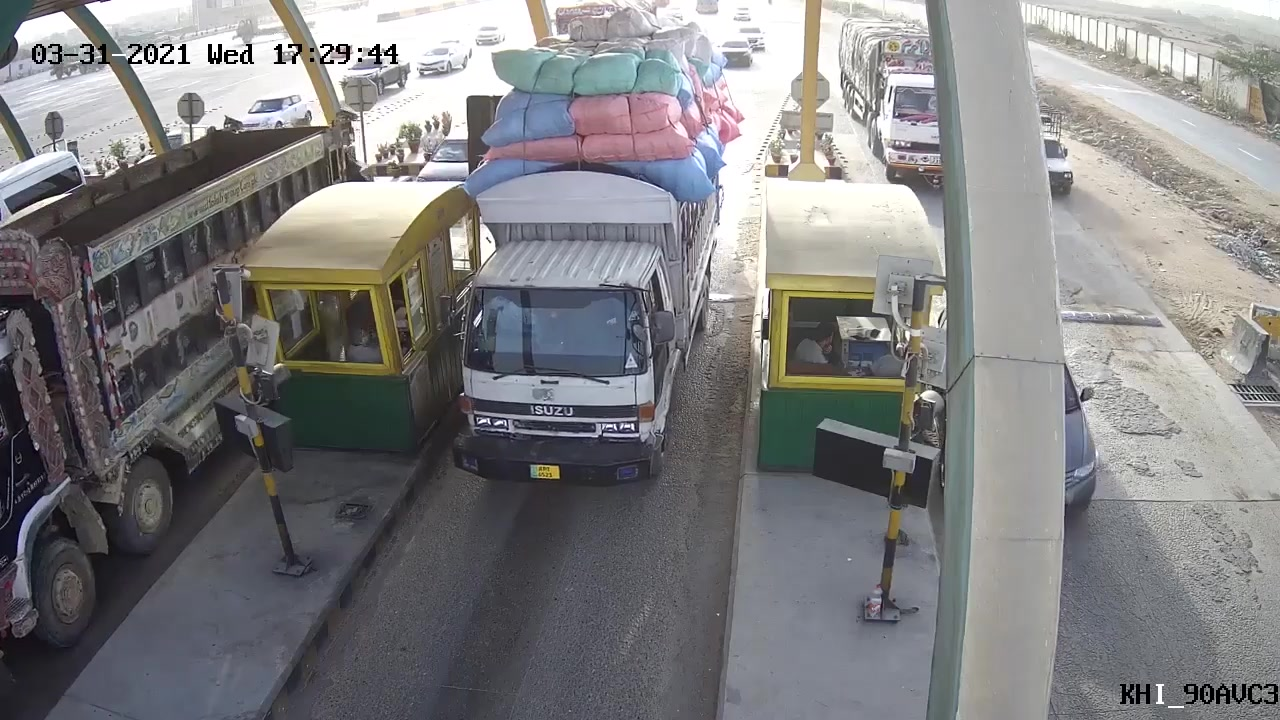F5: (444, 4, 721, 509)
